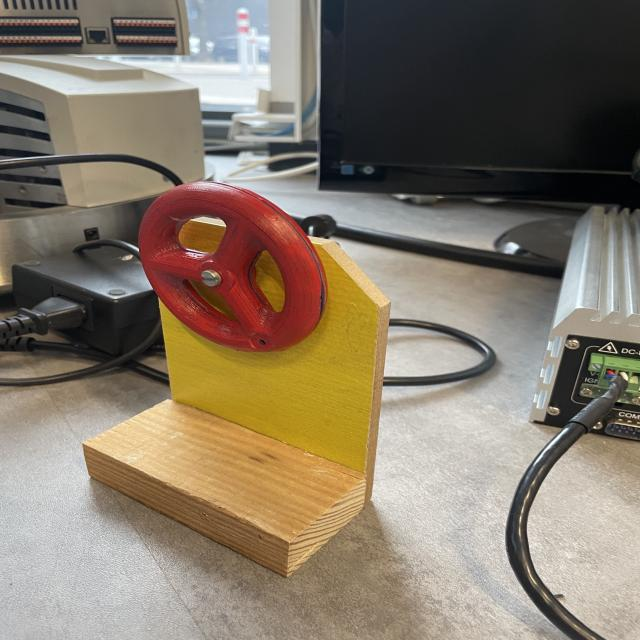Wheel Handle Valve Threaded: (106, 171, 343, 365)
